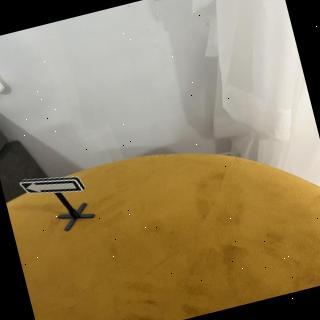sign_oneway_left: (19, 165, 89, 208)
